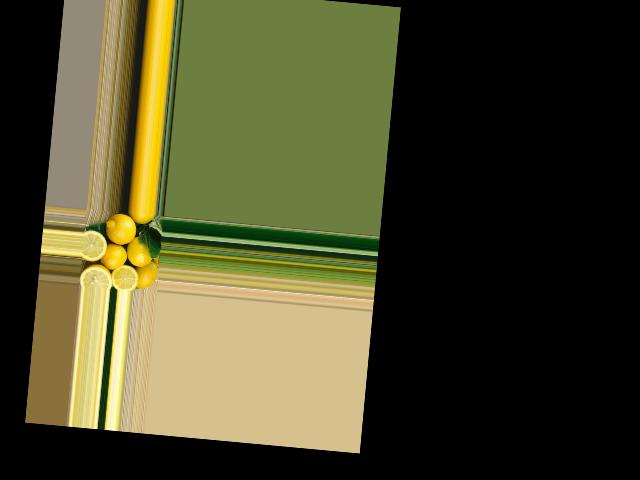lemon: (133, 259, 158, 290)
